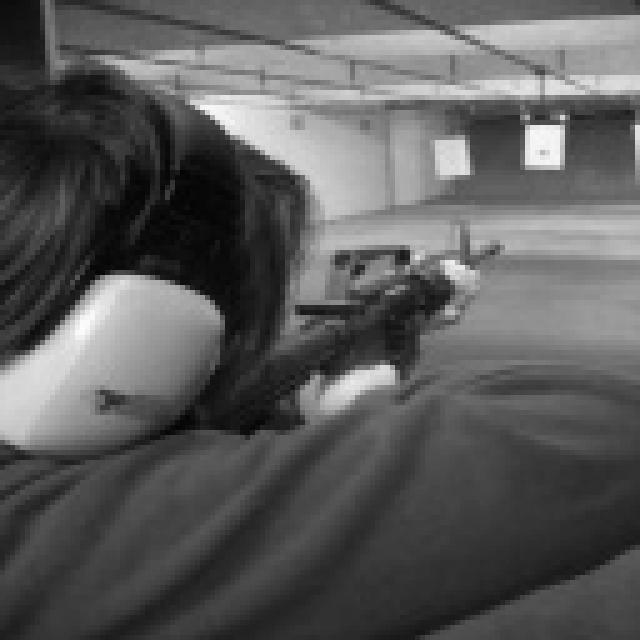Rifle: (141, 241, 523, 438)
